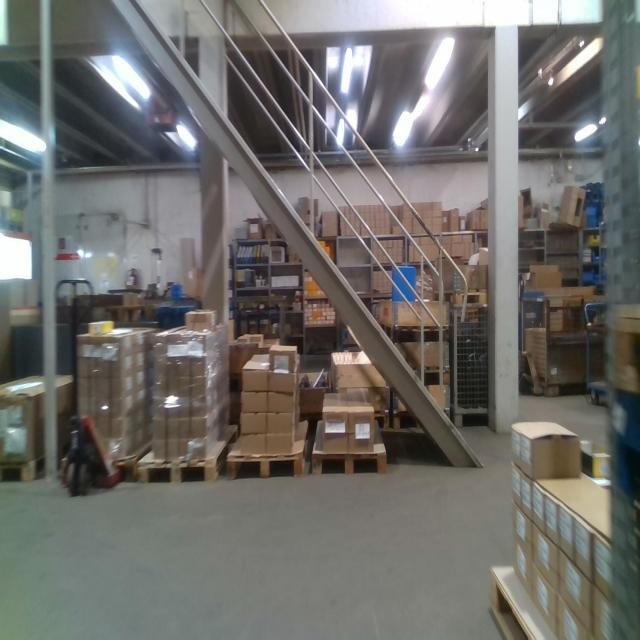pallet: (138, 422, 237, 487), (226, 419, 309, 481), (311, 415, 389, 473), (0, 430, 76, 483), (492, 570, 550, 639), (101, 430, 156, 481)
pallet_truck: (50, 272, 122, 489), (516, 267, 545, 396)
stillage: (520, 296, 606, 398), (451, 302, 488, 427)
